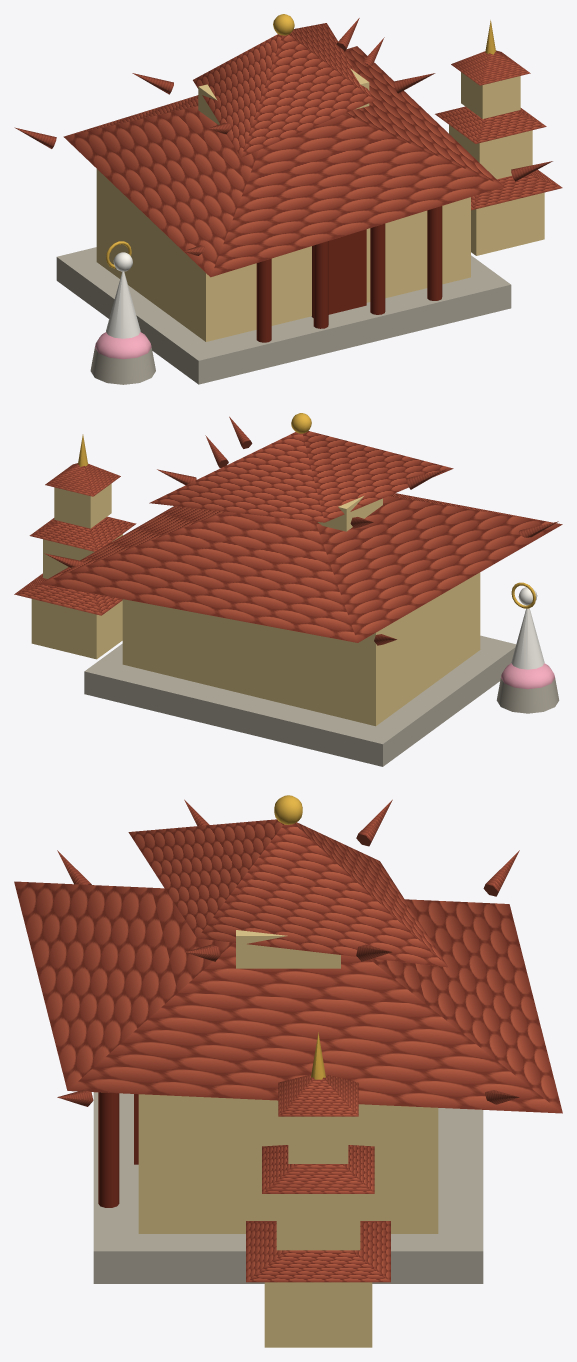
The model's file is chua.glb.
3 renders of one model, top to bottom at view 1: azimuth 30°, elevation 25°; view 2: azimuth 150°, elevation 25°; view 3: azimuth 270°, elevation 25°, orthographic. The views are drawn at different scales.
Parts seen in each view (by area): view 1: chua; view 2: chua; view 3: chua.
Part boxes in pixels (x1,y1,x2,y2): chua: (14,14,562,384); chua: (14,413,562,766); chua: (14,795,562,1347).
Size of the model in its own units: 2.59 by 1.41 by 1.83.
Materials: 7 (1 with a texture image).
